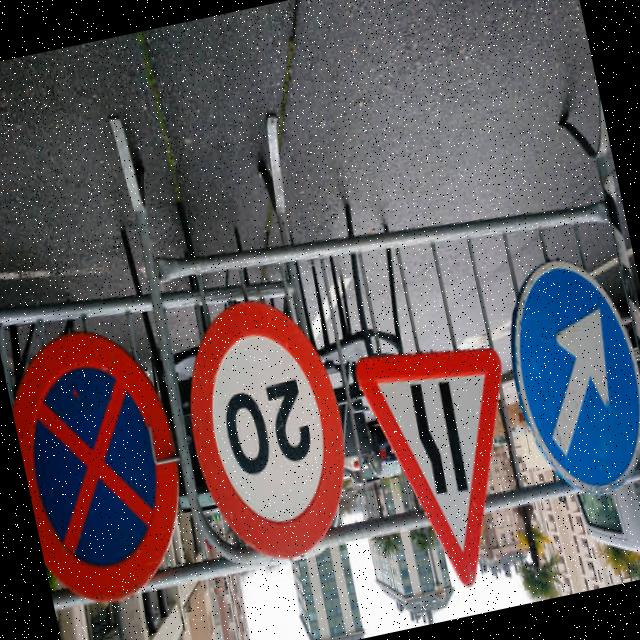no_parking: (0, 309, 203, 620)
speed_limit_20: (166, 276, 372, 578)
